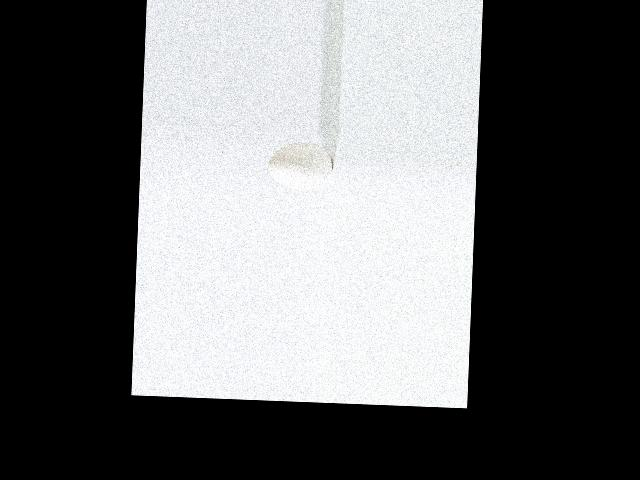egg: (266, 141, 333, 191)
